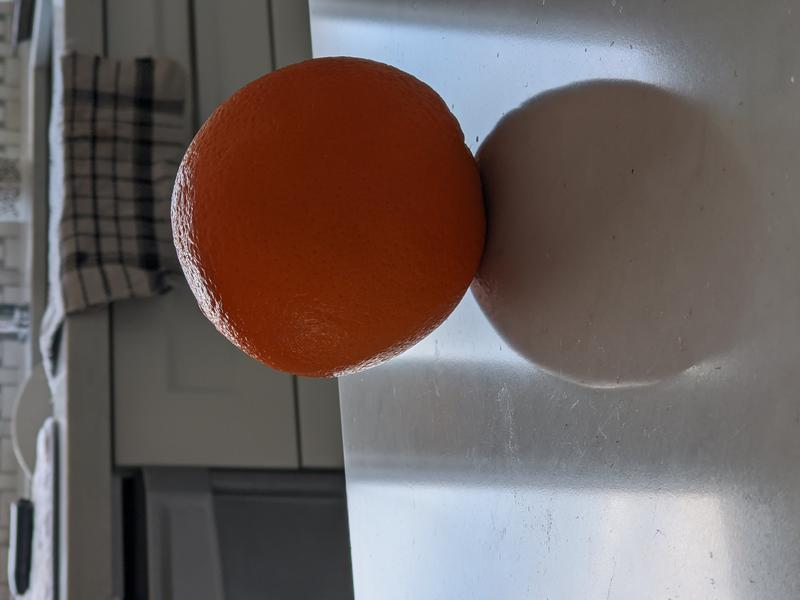orange: (169, 56, 489, 380)
